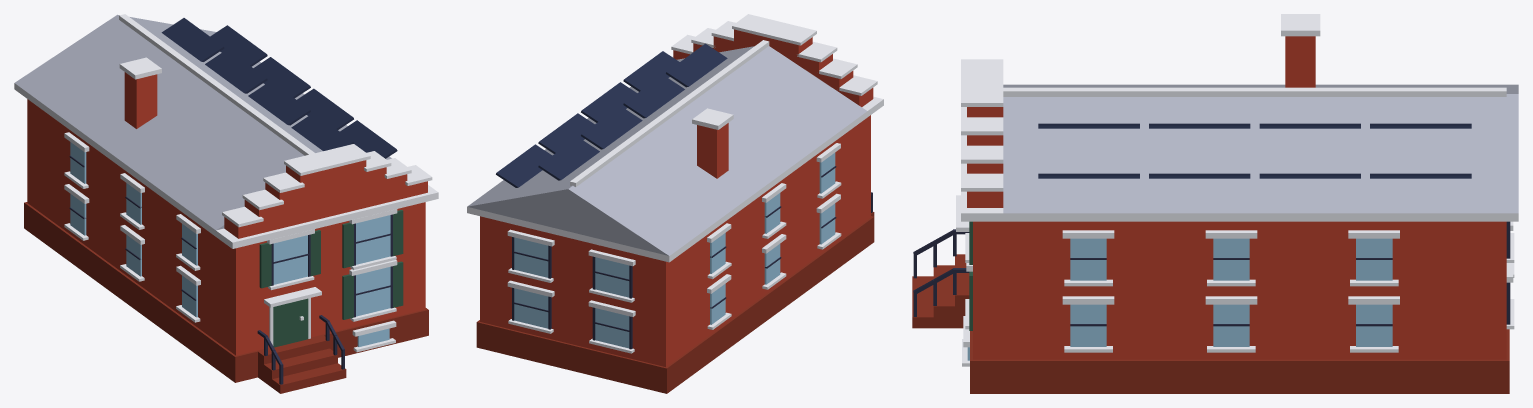
File: house-1x2-2f-dutch-a-solar.glb
The picture shows the model from 3 angles, left to right: view 1: azimuth 30°, elevation 25°; view 2: azimuth 150°, elevation 25°; view 3: azimuth 270°, elevation 25°; orthographic projection. The views are drawn at different scales.
Visible parts, largest first — view 1: house-1x2-2f-dutch-a-solar; view 2: house-1x2-2f-dutch-a-solar; view 3: house-1x2-2f-dutch-a-solar.
Part boxes in pixels (x1,y1,x2,y2): house-1x2-2f-dutch-a-solar: (14,14,438,393); house-1x2-2f-dutch-a-solar: (467,14,883,393); house-1x2-2f-dutch-a-solar: (912,14,1518,393).
Bounding box in the file's own units: 1 × 0.99 × 2.
Materials: 1 (1 with a texture image).
